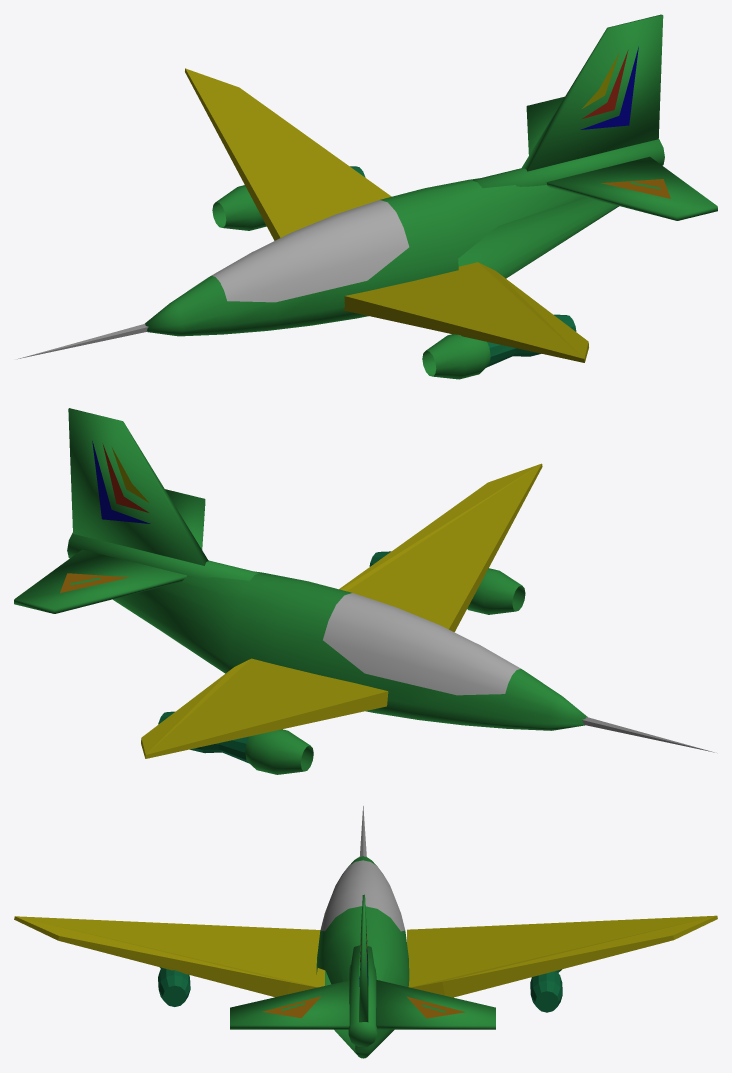
3 renders of one model, top to bottom at view 1: azimuth 30°, elevation 25°; view 2: azimuth 150°, elevation 25°; view 3: azimuth 270°, elevation 25°, orthographic. The views are drawn at different scales.
Visible parts, largest first — view 1: None_XOBJ_1_XOBJ_1, None_XOBJ_3_XOBJ_3, None_XOBJ_8_XOBJ_8, None_XOBJ_2_XOBJ_2, None_XOBJ_5_XOBJ_5, None_XOBJ_4_XOBJ_4, None_XOBJ_XOBJ; view 2: None_XOBJ_1_XOBJ_1, None_XOBJ_3_XOBJ_3, None_XOBJ_8_XOBJ_8, None_XOBJ_2_XOBJ_2, None_XOBJ_5_XOBJ_5, None_XOBJ_4_XOBJ_4, None_XOBJ_XOBJ; view 3: None_XOBJ_3_XOBJ_3, None_XOBJ_1_XOBJ_1, None_XOBJ_8_XOBJ_8, None_XOBJ_2_XOBJ_2, None_XOBJ_XOBJ.
Boxes of the visible parts, box(x1,y1,x2,y2) form: None_XOBJ_1_XOBJ_1: box(145, 14, 717, 379); None_XOBJ_3_XOBJ_3: box(185, 68, 588, 362); None_XOBJ_8_XOBJ_8: box(211, 200, 409, 302); None_XOBJ_2_XOBJ_2: box(350, 166, 576, 367); None_XOBJ_5_XOBJ_5: box(580, 46, 638, 129); None_XOBJ_4_XOBJ_4: box(17, 324, 148, 359); None_XOBJ_XOBJ: box(601, 179, 670, 198); None_XOBJ_1_XOBJ_1: box(14, 408, 587, 774); None_XOBJ_3_XOBJ_3: box(141, 463, 542, 758); None_XOBJ_8_XOBJ_8: box(323, 593, 520, 695); None_XOBJ_2_XOBJ_2: box(158, 551, 391, 763); None_XOBJ_5_XOBJ_5: box(92, 441, 150, 523); None_XOBJ_4_XOBJ_4: box(582, 717, 714, 752); None_XOBJ_XOBJ: box(60, 573, 129, 592); None_XOBJ_3_XOBJ_3: box(14, 915, 717, 997); None_XOBJ_1_XOBJ_1: box(159, 856, 561, 1058); None_XOBJ_8_XOBJ_8: box(320, 860, 405, 931); None_XOBJ_2_XOBJ_2: box(158, 967, 562, 1012); None_XOBJ_XOBJ: box(262, 996, 465, 1018).
Size of the model in its own units: 4.1 by 1.34 by 4.36.
